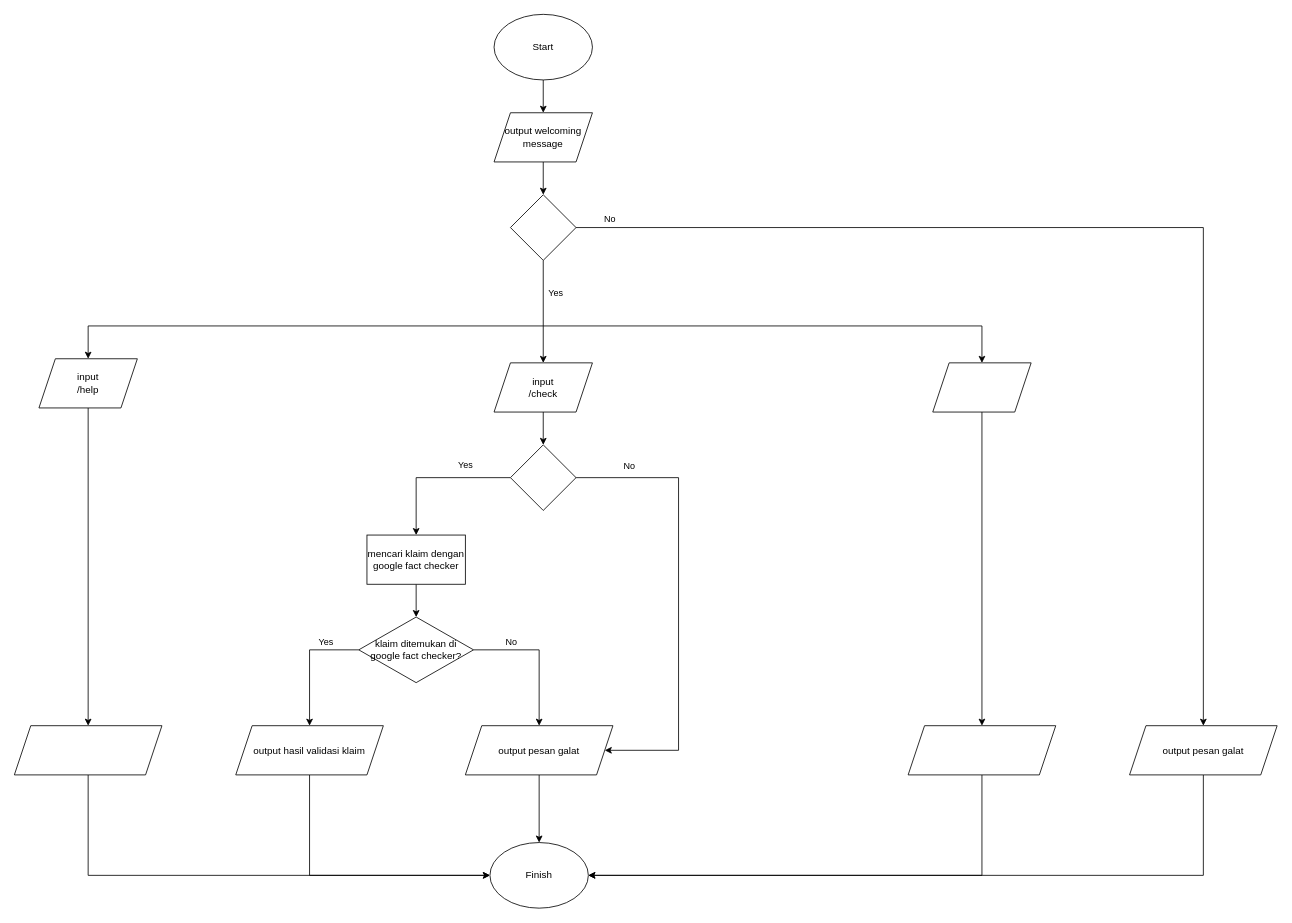
The diagram is 1292 pixels wide and 923 high, and some of its shapes have lost their labels. Each missing label, with the centre of its shape:
input /about: the point at 981,387
input command?: the point at 543,227
input klaim?: the point at 543,477
output deskrip singkat AHC (Anti Hoax Checker): the point at 981,750
output list fitur yang dapat digunakan user: the point at 88,750
